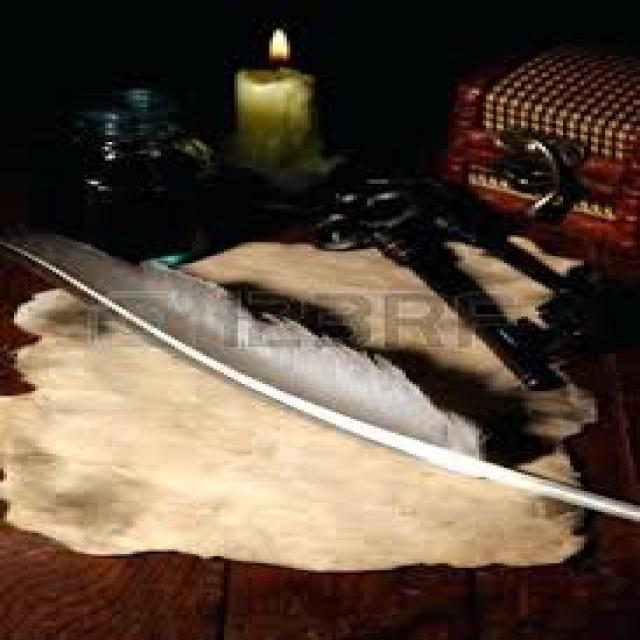fire: (260, 31, 298, 71)
